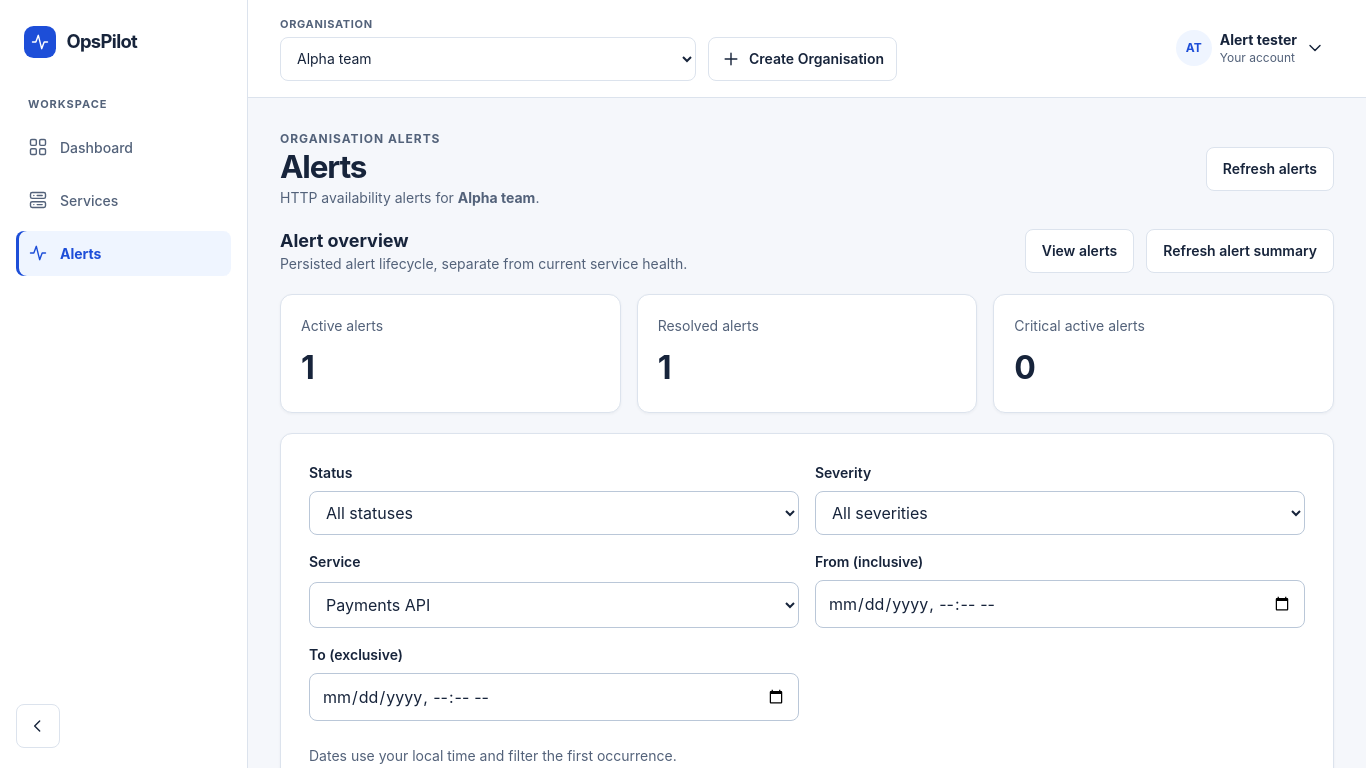
Test: switching tenant cancels pending requests, resets filters and ignores late previous-tenant data
Click the button "Refresh alerts" at coordinates (1270, 169), box [1206,147,1334,191]
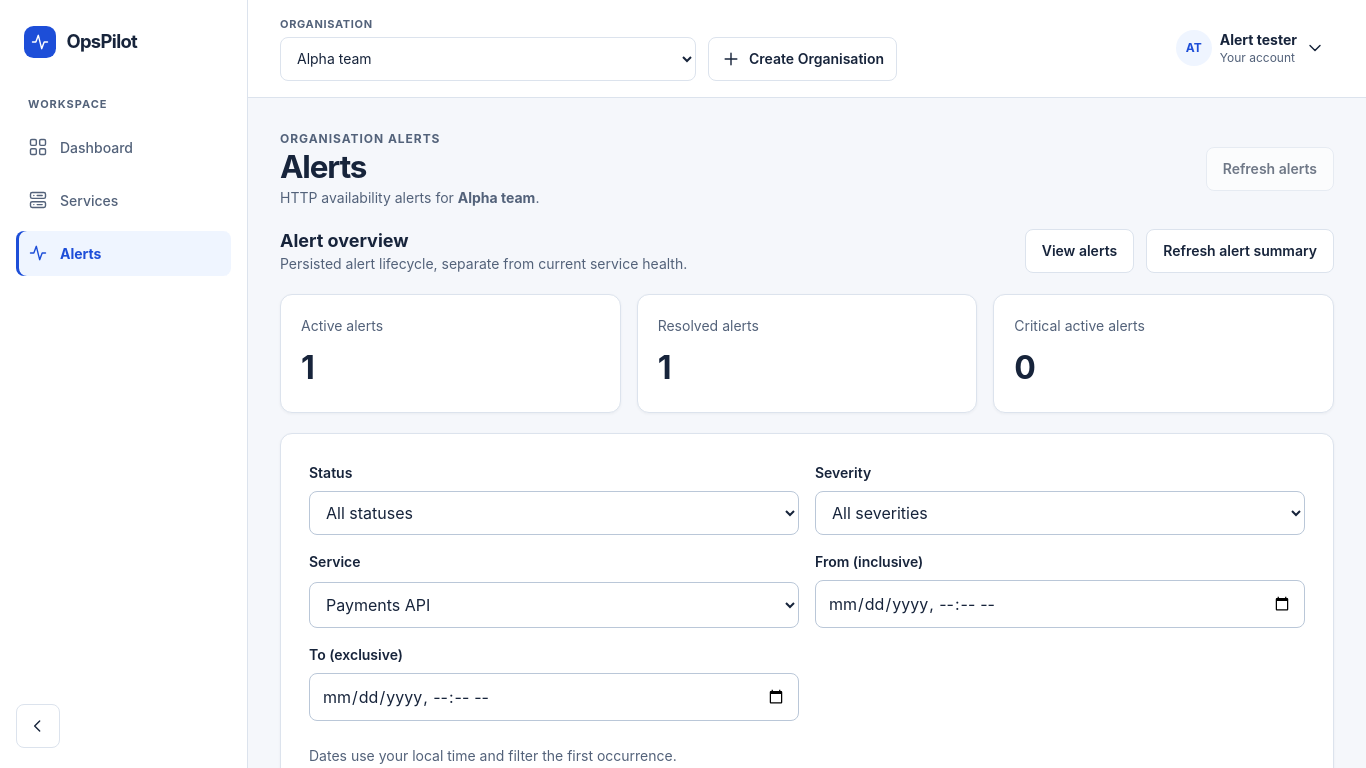
Select "Beta team" in the dropdown labelled "Organisation" at coordinates (488, 58), box [280,36,696,80]
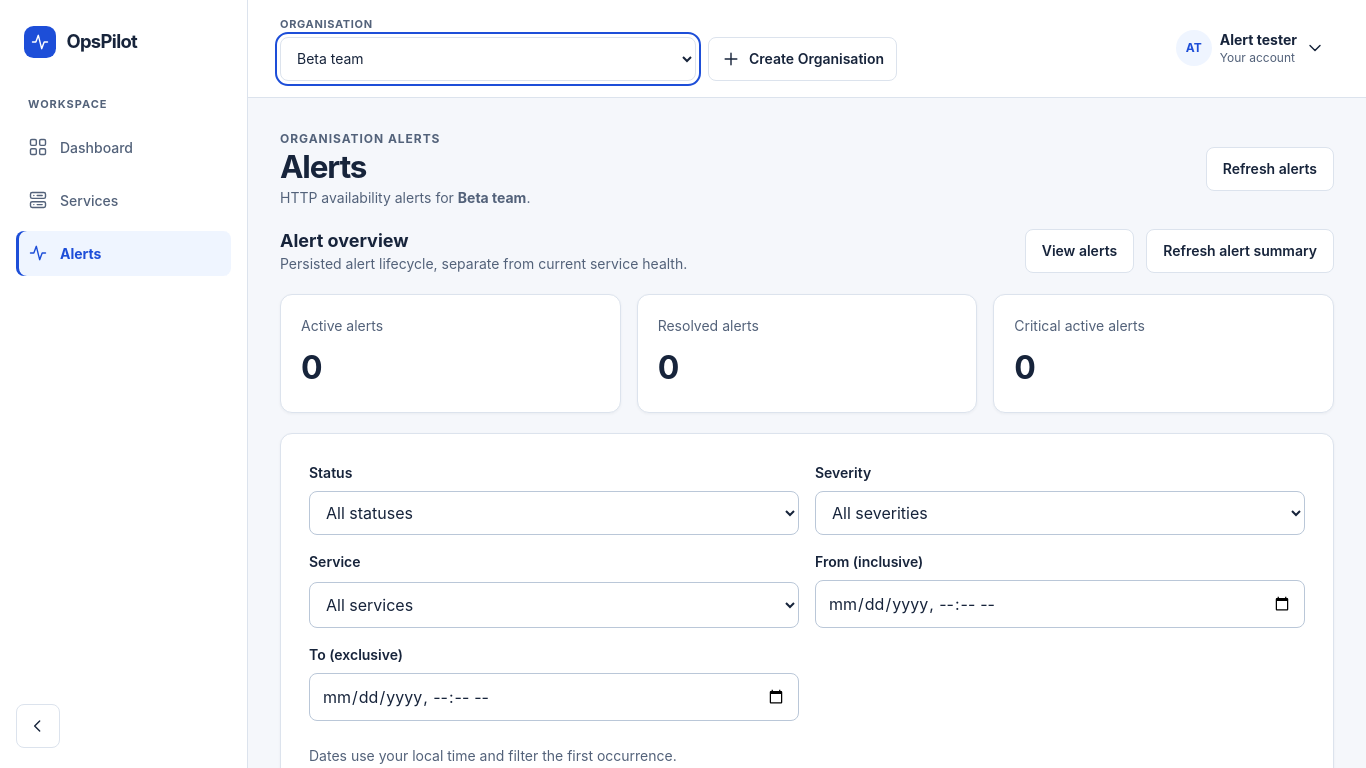
Expected: the dropdown labelled "Service" shows "All services", [309,582,799,628]
